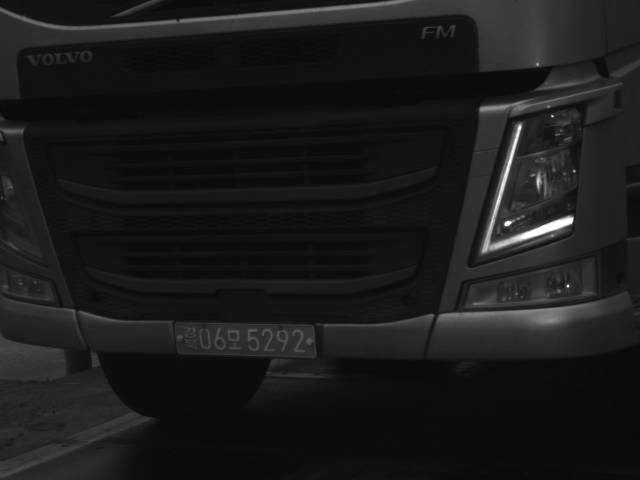car: (1, 1, 640, 420)
plate: (172, 321, 318, 360)
